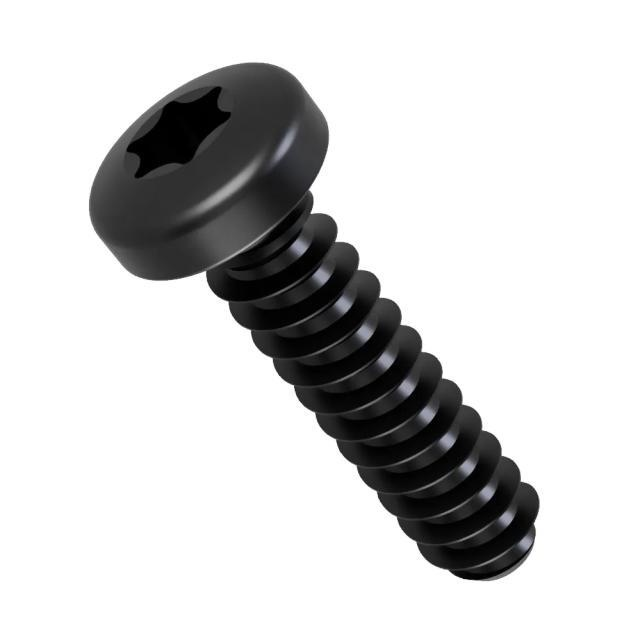torx: (86, 60, 330, 280)
